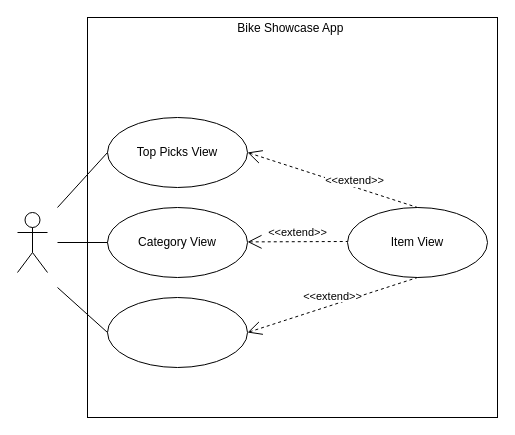
Image size: 515x435. Some labels were removed from this diagram. The shapes that lost their labels are listed below. From the top down, each one's box as (x1, y1, x2, y2) in pixels, then its label:
(16, 212, 48, 272): User
(106, 296, 248, 368): Item search
